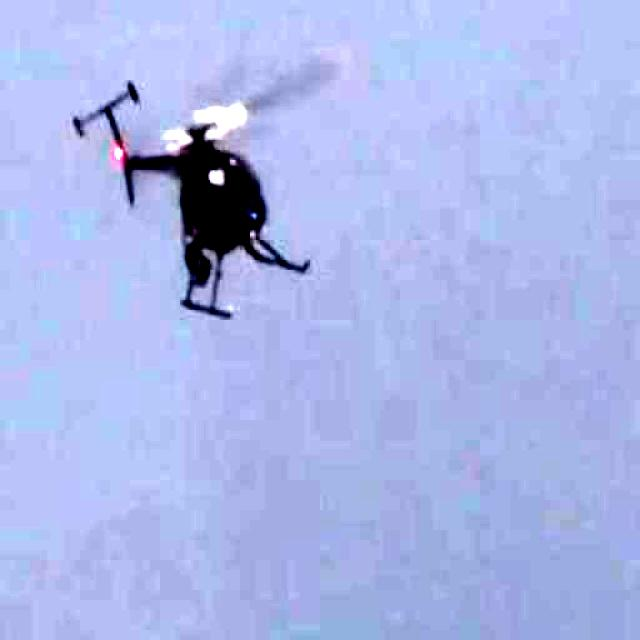drone: (65, 12, 358, 351)
